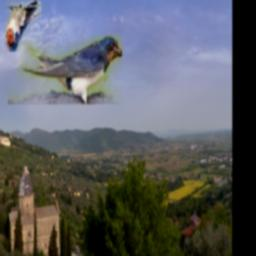Swallow: (8, 35, 122, 104), (6, 2, 42, 53)
